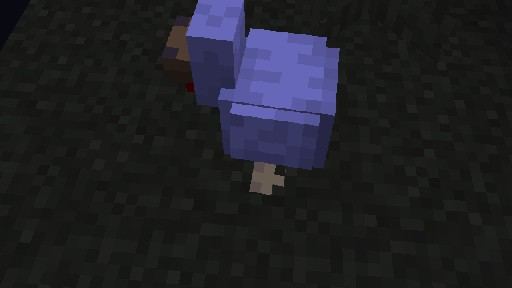chicken: (160, 0, 339, 194)
